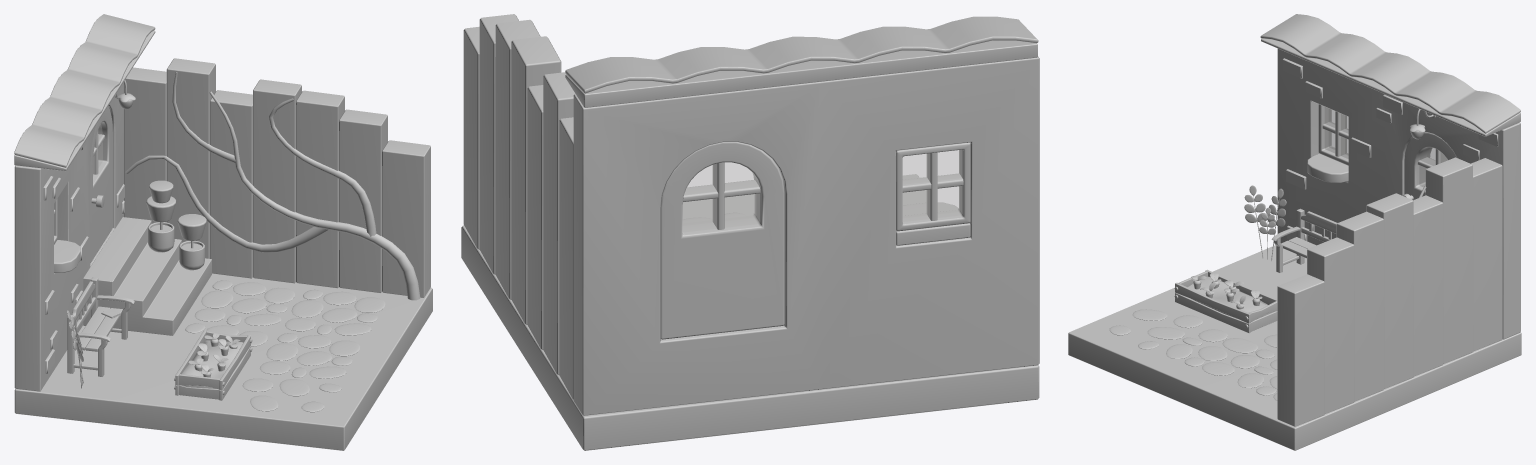
The model's file is Frontyard_17.fbx.
3 renders of one model, left to right at view 1: azimuth 30°, elevation 25°; view 2: azimuth 150°, elevation 25°; view 3: azimuth 270°, elevation 25°, orthographic. The views are drawn at different scales.
Visible parts, largest first — view 1: Room_17_Fence_1, Room_17_Floor_1, Room_17_Wall_1, Room_17_Stairs_1, Room_17_Garden_1, Room_17_Bench_1, Room_17_Door_1, Room_17_Path_4, Room_17_Path_3, Room_17_Path_1, Room_17_Plant_2, Room_17_Path_2 (+3 smaller); view 2: Room_17_Wall_1, Room_17_Fence_1, Room_17_Door_1, Room_17_Floor_1, Room_17_Window_1; view 3: Room_17_Fence_1, Room_17_Wall_1, Room_17_Floor_1, Room_17_Garden_1, Room_17_Path_4, Room_17_Window_1, Room_17_Door_1, Room_17_Bench_1, Room_17_Path_2, Room_17_Plant_3, Room_17_Path_1.
Boxes of the visible parts, box(x1,y1,x2,y2) form: Room_17_Fence_1: box(123, 58, 430, 300); Room_17_Floor_1: box(14, 273, 432, 450); Room_17_Wall_1: box(14, 14, 155, 391); Room_17_Stairs_1: box(83, 217, 211, 335); Room_17_Garden_1: box(174, 330, 252, 400); Room_17_Bench_1: box(67, 277, 134, 376); Room_17_Door_1: box(90, 106, 112, 262); Room_17_Path_4: box(260, 333, 360, 378); Room_17_Path_3: box(195, 280, 294, 325); Room_17_Path_1: box(285, 289, 385, 335); Room_17_Plant_2: box(146, 180, 176, 252); Room_17_Path_2: box(242, 378, 341, 412); Room_17_Wall_1: box(565, 16, 1039, 415); Room_17_Fence_1: box(463, 14, 574, 399); Room_17_Door_1: box(660, 142, 784, 339); Room_17_Floor_1: box(461, 174, 1039, 450); Room_17_Window_1: box(896, 142, 970, 245); Room_17_Fence_1: box(1277, 157, 1502, 426); Room_17_Wall_1: box(1260, 14, 1520, 339); Room_17_Floor_1: box(1068, 245, 1521, 450); Room_17_Garden_1: box(1174, 269, 1277, 332); Room_17_Path_4: box(1166, 329, 1274, 375); Room_17_Window_1: box(1307, 104, 1348, 182); Room_17_Door_1: box(1402, 132, 1457, 200); Room_17_Bench_1: box(1271, 208, 1337, 272); Room_17_Path_2: box(1109, 309, 1202, 349); Room_17_Plant_3: box(1244, 185, 1286, 261); Room_17_Path_1: box(1237, 359, 1277, 400).
Bounding box in the file's own units: 704 × 431 × 704.
